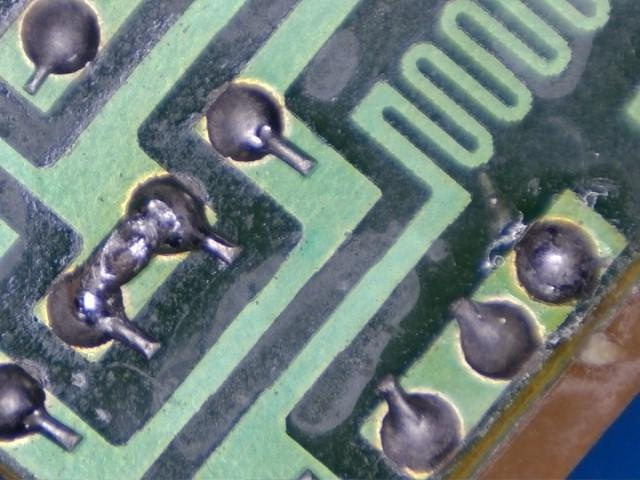pcb_defect: (74, 198, 186, 321)
